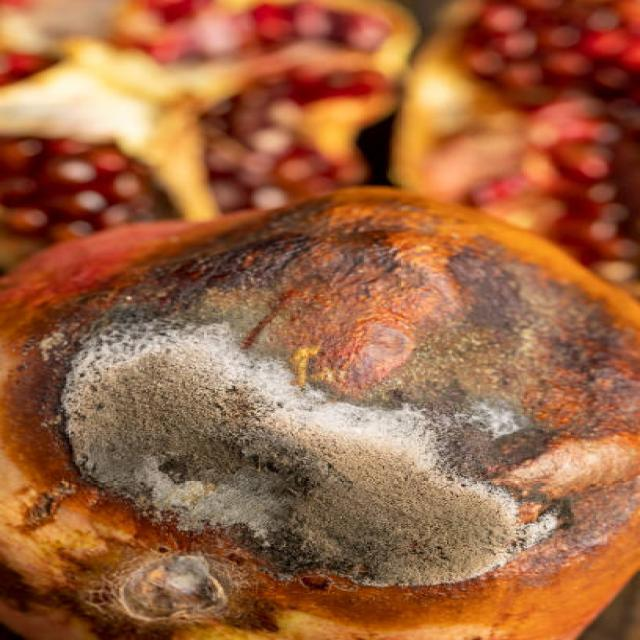Rotten: (3, 187, 639, 640)
